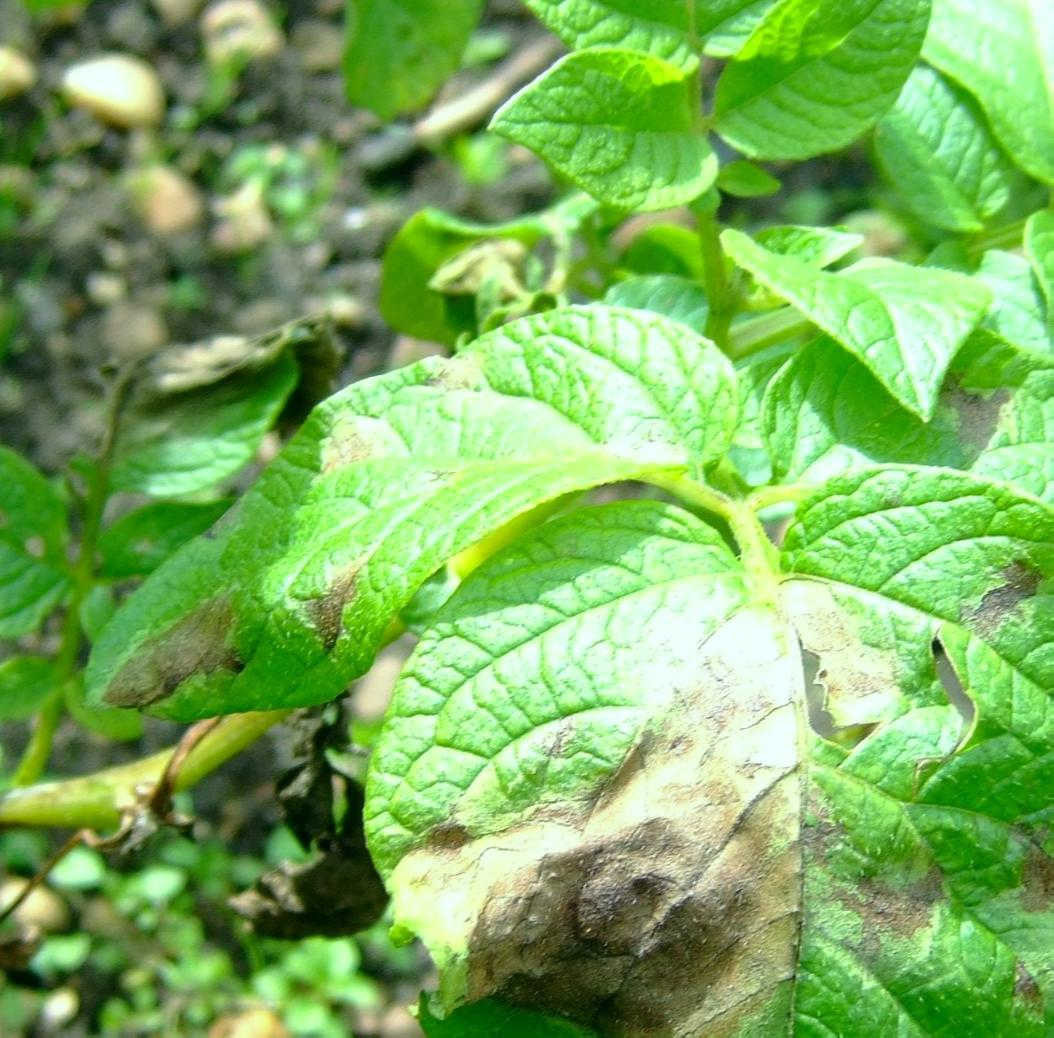Tomato leaf late blight: (366, 474, 1054, 1038)
